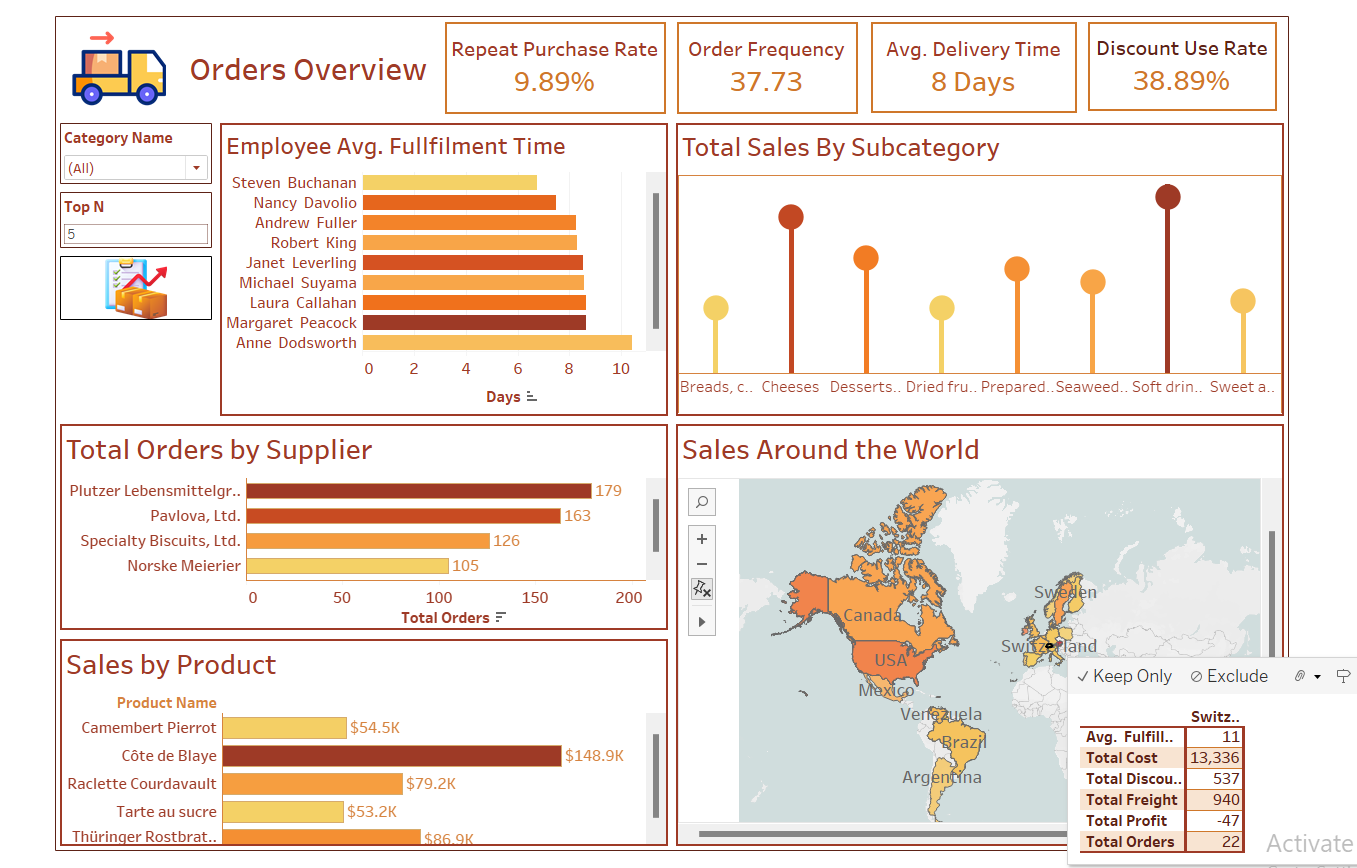

This screenshot's page, from the dashboard's own definition file:
{"tool":"tableau","page":{"name":"Orders Overview","canvas":[1250,851],"ordinal":4},"visuals":[{"type":"dashboard-object","box":[9,9,125.8,102.3]},{"type":"text","box":[134.8,9,258.6,102.3]},{"type":"worksheet","title":"Repeat Purchase Rate$$","mark":"Automatic","box":[393.4,9,231.6,102.3]},{"type":"worksheet","title":"Order Frequency\\ Customer","mark":"Automatic","box":[625,9,193.7,102.3]},{"type":"worksheet","title":"AVG Fullfillment Time","mark":"Automatic","box":[818.7,9,217.7,102.3]},{"type":"worksheet","title":"Discount USe Rate","mark":"Automatic","box":[1036.3,9,204.7,102.3]},{"type":"filter","title":"Sheet 39","param":"[federated.14ipymx00w4gtc17hiyow154x21m].[none:CategoryName:nk]","box":[9,111.3,160,69]},{"type":"worksheet","title":"Sheet 39","mark":"Automatic","rows":["Calculation_517069590401417240"],"cols":["Calculation_517069590396755991"],"box":[169,111.3,456,300.7]},{"type":"worksheet","title":"Total Sales By Subcategory","mark":"Automatic","rows":["Calculation_642888904718909440","Calculation_642888904718909440"],"cols":["Description"],"box":[625,111.3,616,300.7]},{"type":"parameter","param":"[Parameters].[Parameter 1]","box":[9,180.3,160,64]},{"type":"dashboard-object","box":[9,244.3,160,72]},{"type":"worksheet","title":"Total Orders by Supplier","mark":"Automatic","rows":["CompanyName (Supplier_Dim)"],"cols":["Calculation_517069590386130949"],"box":[9,412,616,214.5]},{"type":"worksheet","title":"Sales Around the World","mark":"Multipolygon","box":[625,412,616,430]},{"type":"worksheet","title":"Sales by Product","mark":"Automatic","rows":["ProductName"],"cols":["Calculation_642888904718909440"],"box":[9,626.5,616,215.5]}]}

Visuals, with their boxes on the page's 1250x851 design canvas (x1, y1, x2, y2). These are canvas units, not pixel positions in the 1357x868 screenshot, which may show the page scaled, cropped or inside an application window:
dashboard-object: region(9, 9, 135, 111)
text: region(135, 9, 393, 111)
"Repeat Purchase Rate$$" worksheet: region(393, 9, 625, 111)
"Order Frequency\ Customer" worksheet: region(625, 9, 819, 111)
"AVG Fullfillment Time" worksheet: region(819, 9, 1036, 111)
"Discount USe Rate" worksheet: region(1036, 9, 1241, 111)
"Sheet 39" filter: region(9, 111, 169, 180)
"Sheet 39" worksheet: region(169, 111, 625, 412)
"Total Sales By Subcategory" worksheet: region(625, 111, 1241, 412)
parameter: region(9, 180, 169, 244)
dashboard-object: region(9, 244, 169, 316)
"Total Orders by Supplier" worksheet: region(9, 412, 625, 626)
"Sales Around the World" worksheet (Multipolygon marks): region(625, 412, 1241, 842)
"Sales by Product" worksheet: region(9, 626, 625, 842)
